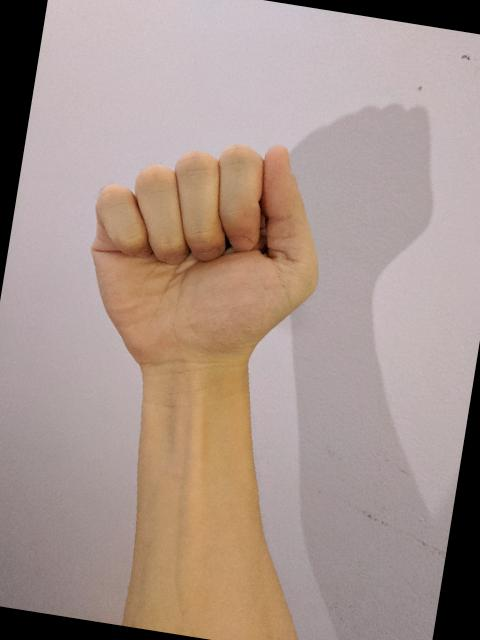A: (63, 110, 344, 408)
